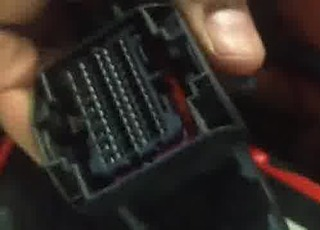connector: (33, 4, 245, 214)
